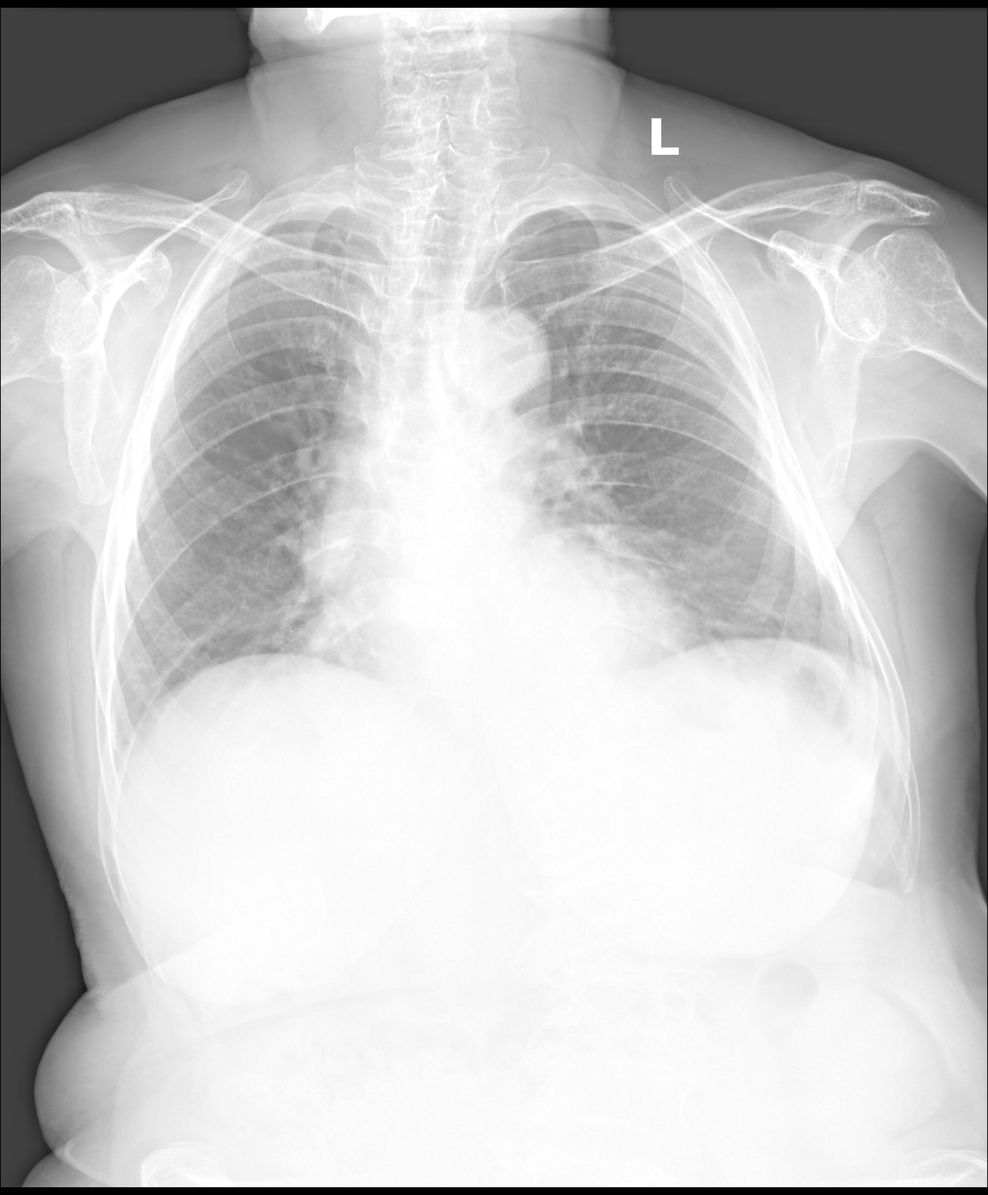Aortic enlargement: (433, 312, 554, 409)
